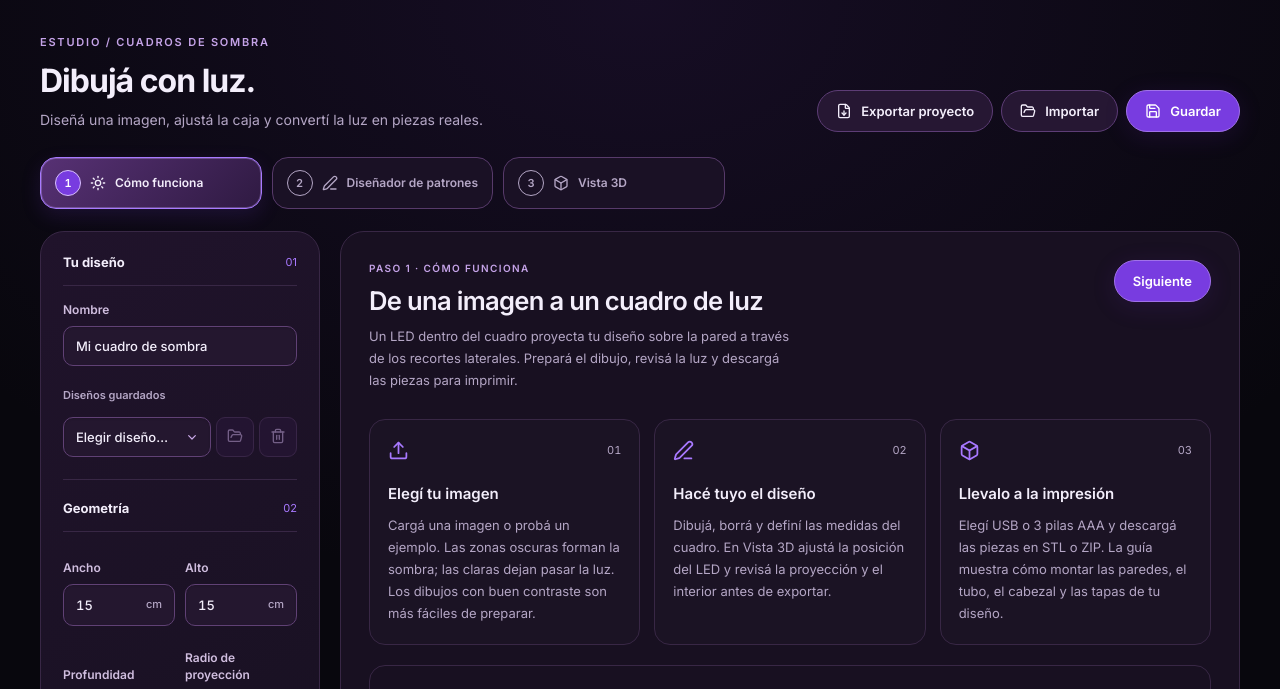
abrir un proyecto guardado desde otro paso vuelve al diseñador restaurado
Click the button "2 Diseñador de patrones" at (382, 183), box left=272, top=157, right=493, bottom=209
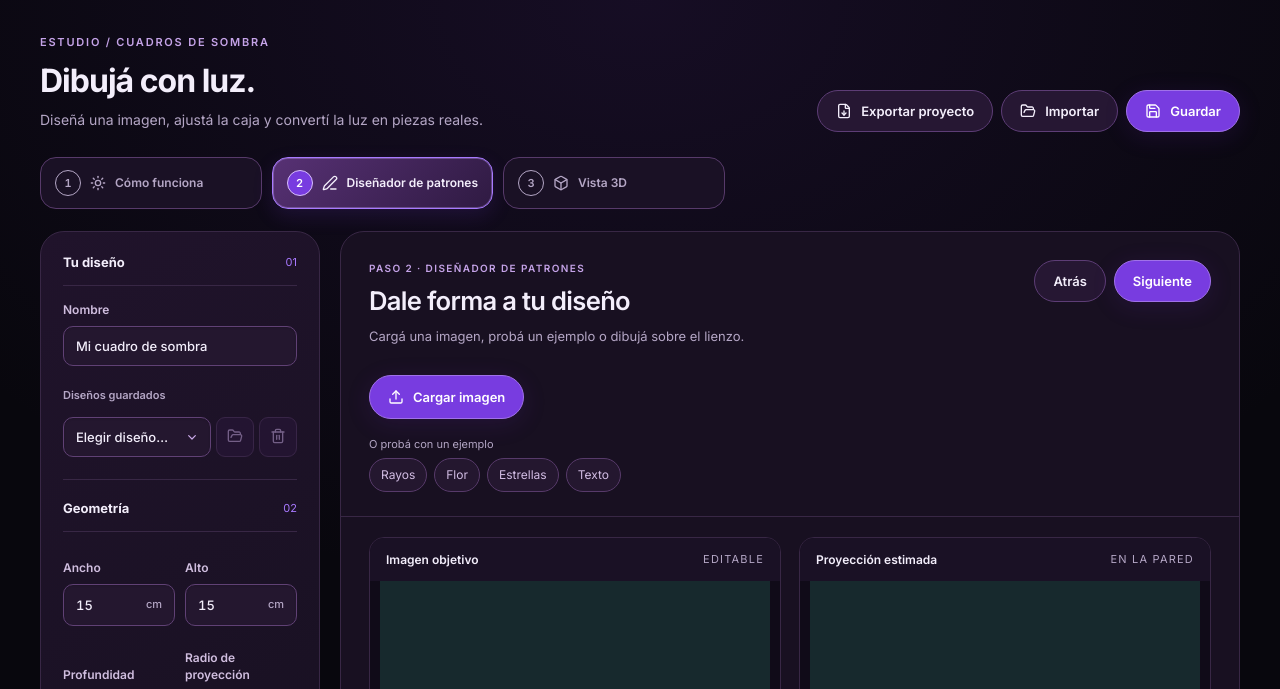
Replace the text in the field labelled "Nombre" with "Guardado local" at (180, 346), box left=63, top=326, right=297, bottom=366
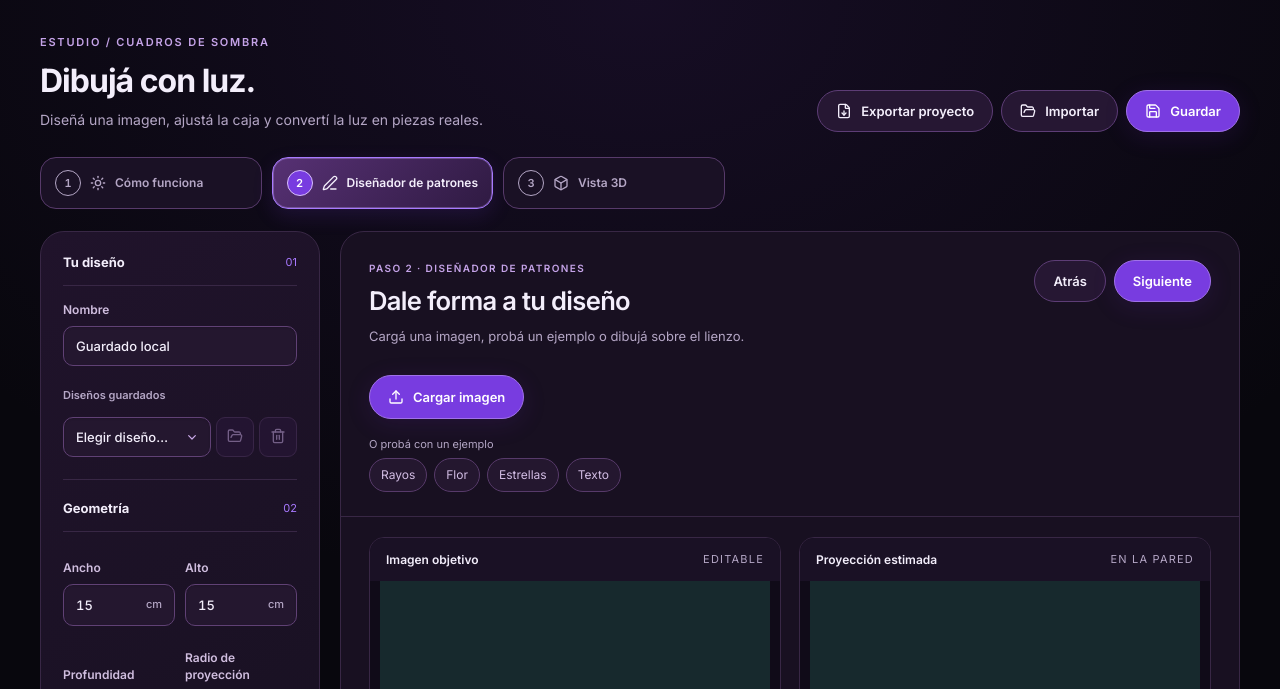
Replace the text in the number field labelled "Ancho" with "23" at (105, 605), box left=64, top=585, right=146, bottom=625
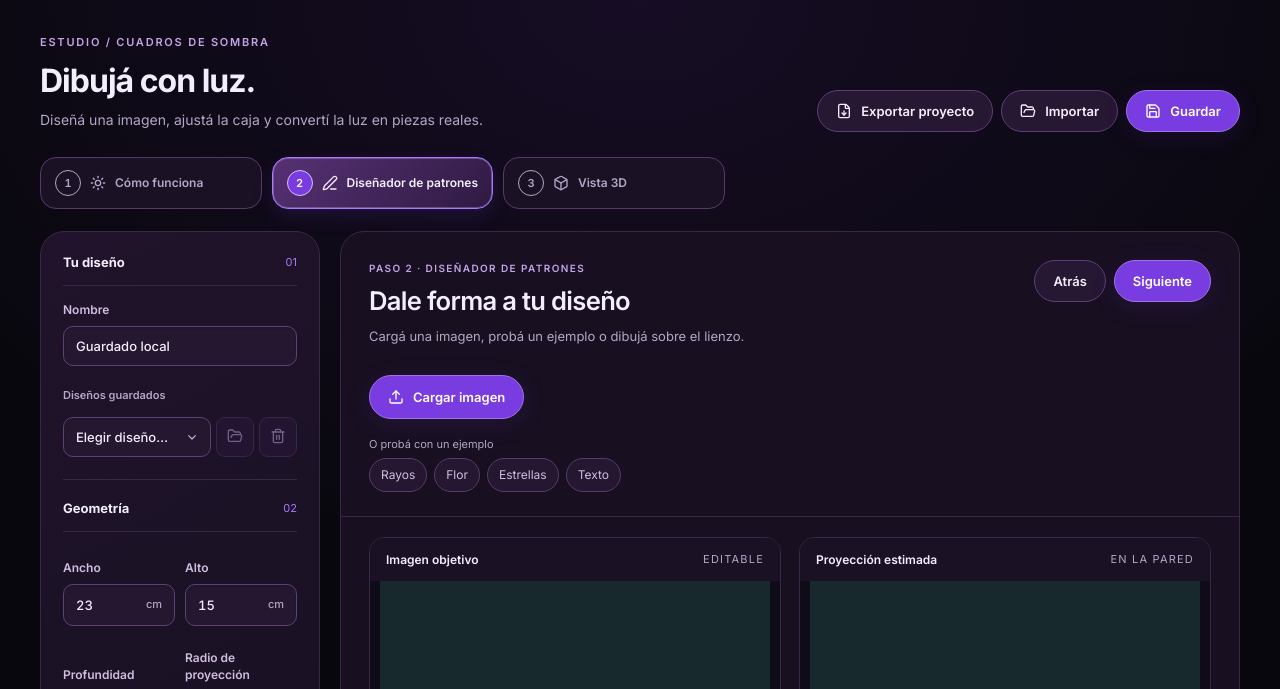
Click the button "Guardar" at (1183, 111), box left=1126, top=90, right=1240, bottom=132
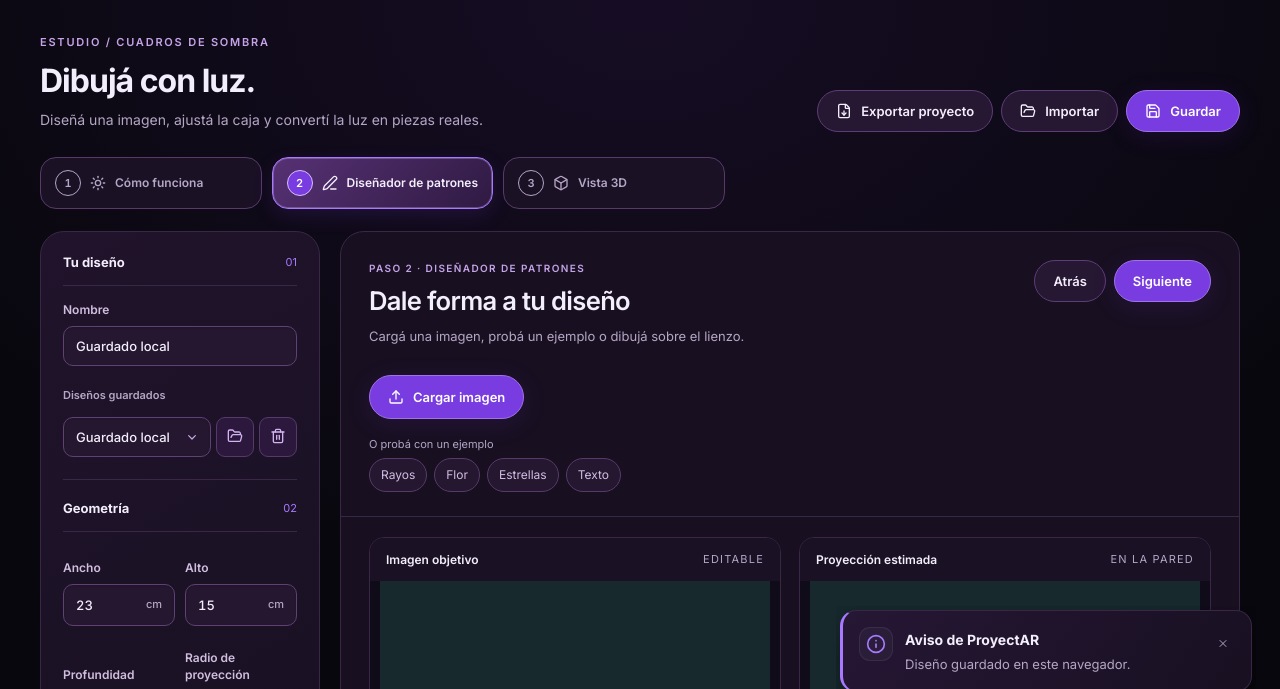
Click the button "1 Cómo funciona" at (151, 183), box left=40, top=157, right=262, bottom=209
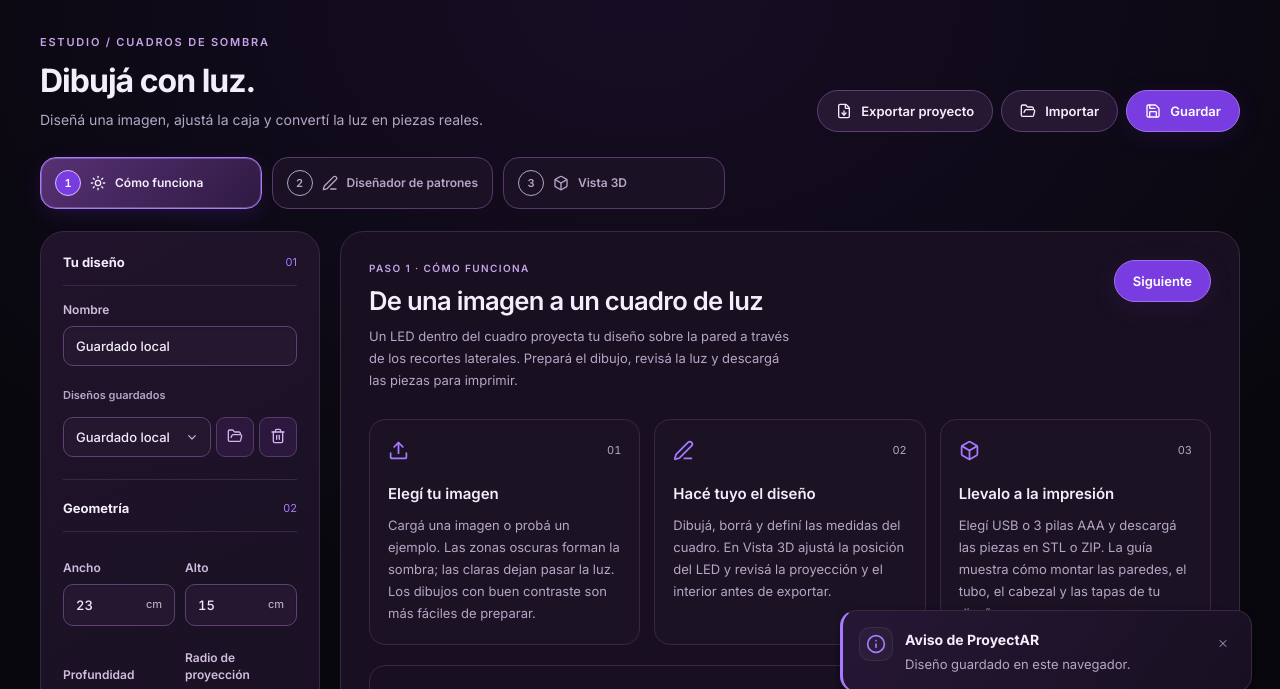
Select "Guardado local" in the dropdown labelled "Diseños guardados" at (137, 437), box left=63, top=417, right=211, bottom=457
Click the button named "Abrir diseño guardado" at (235, 437), box left=216, top=417, right=254, bottom=457
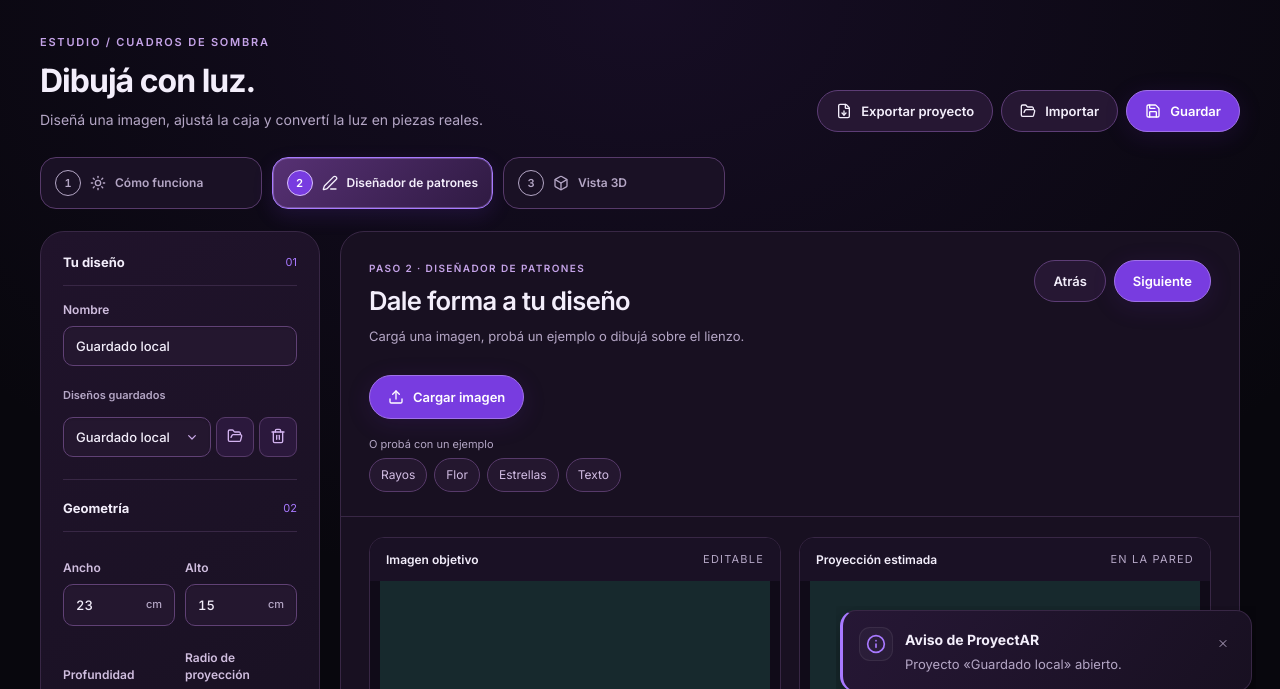
Now the button "Cargar imagen" is shown, box left=369, top=375, right=524, bottom=419
